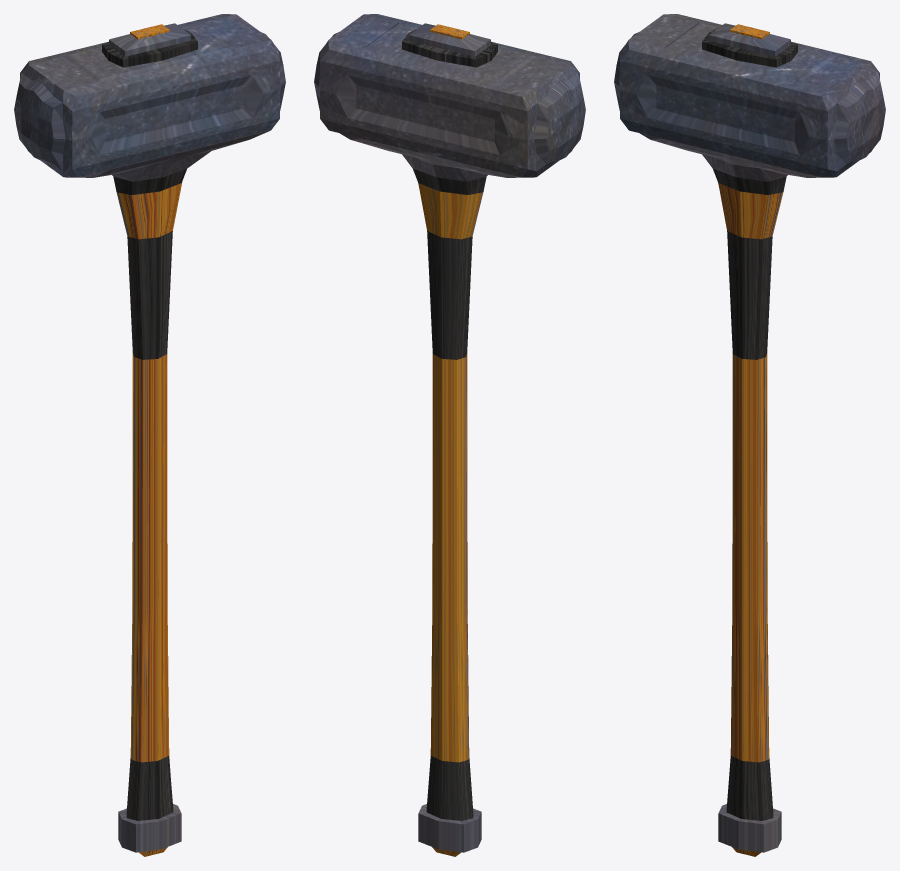
File: sledge2.fbx
3 views of the same model, side by side, from view 1: azimuth 30°, elevation 25°; view 2: azimuth 150°, elevation 25°; view 3: azimuth 330°, elevation 25° (orthographic).
Parts seen in each view (by area): view 1: pCube1; view 2: pCube1; view 3: pCube1.
Part boxes in pixels (bbox=[...]): pCube1: bbox=[14, 14, 285, 856]; pCube1: bbox=[314, 14, 585, 856]; pCube1: bbox=[614, 14, 885, 856].
Bounding box in the file's own units: 0.2131 × 0.6969 × 0.0843.
